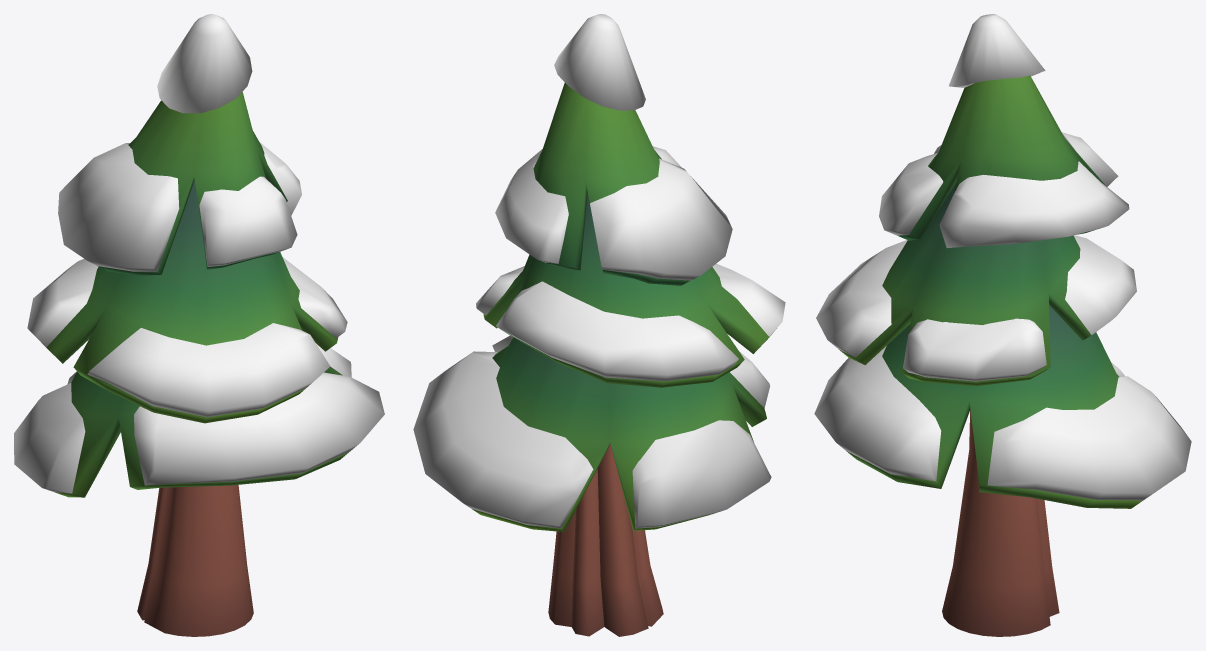
Rendered from Snowy_Pine_Tree_01.fbx.
3 views of the same model, side by side, from view 1: azimuth 30°, elevation 25°; view 2: azimuth 150°, elevation 25°; view 3: azimuth 270°, elevation 25° (orthographic).
Parts seen in each view (by area): view 1: Snowy_Pine_Tree_01; view 2: Snowy_Pine_Tree_01; view 3: Snowy_Pine_Tree_01.
Part boxes in pixels (x1,y1,x2,y2): Snowy_Pine_Tree_01: (14, 14, 384, 636); Snowy_Pine_Tree_01: (413, 14, 785, 636); Snowy_Pine_Tree_01: (814, 14, 1191, 636).
Size of the model in its own units: 347 by 619 by 351.
